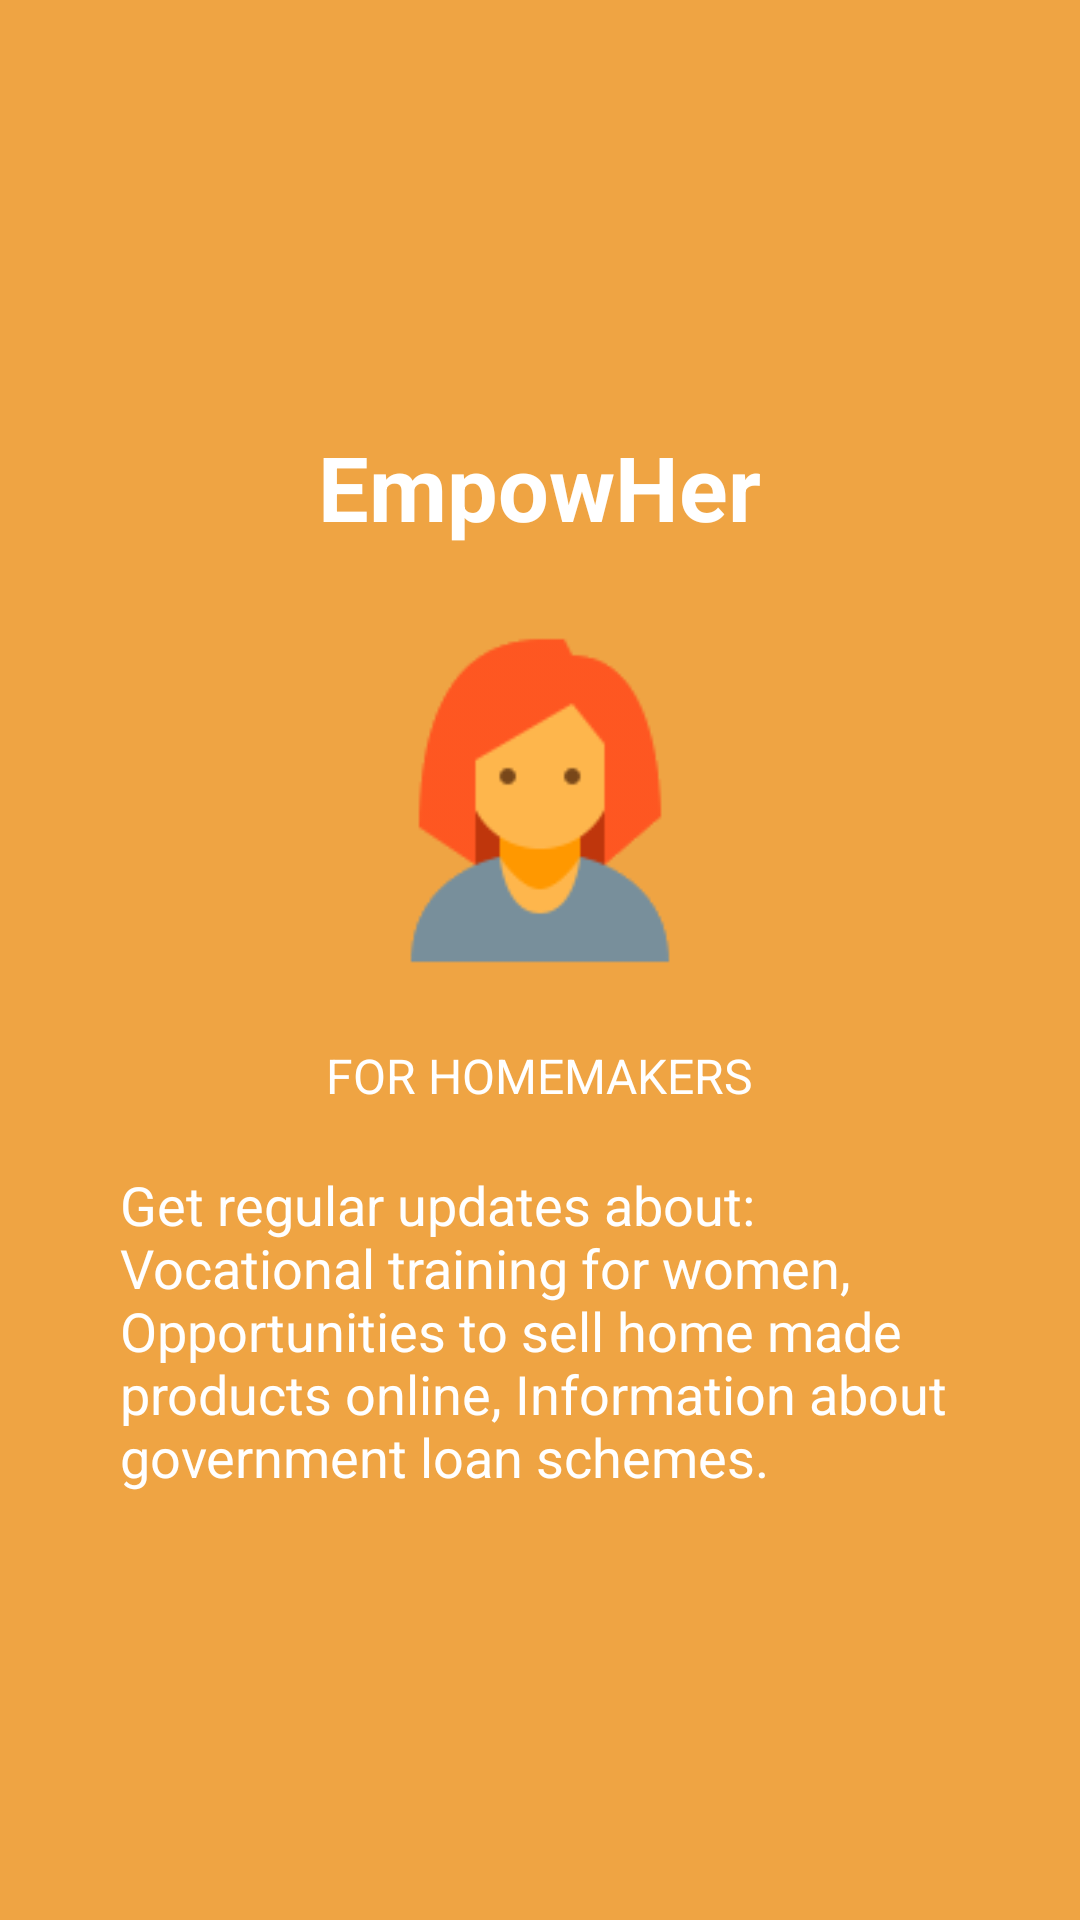

Icons on this 1080 x 1920 Android screen, each with the point to tap as [x,y]:
Lady Image: [540,801]
